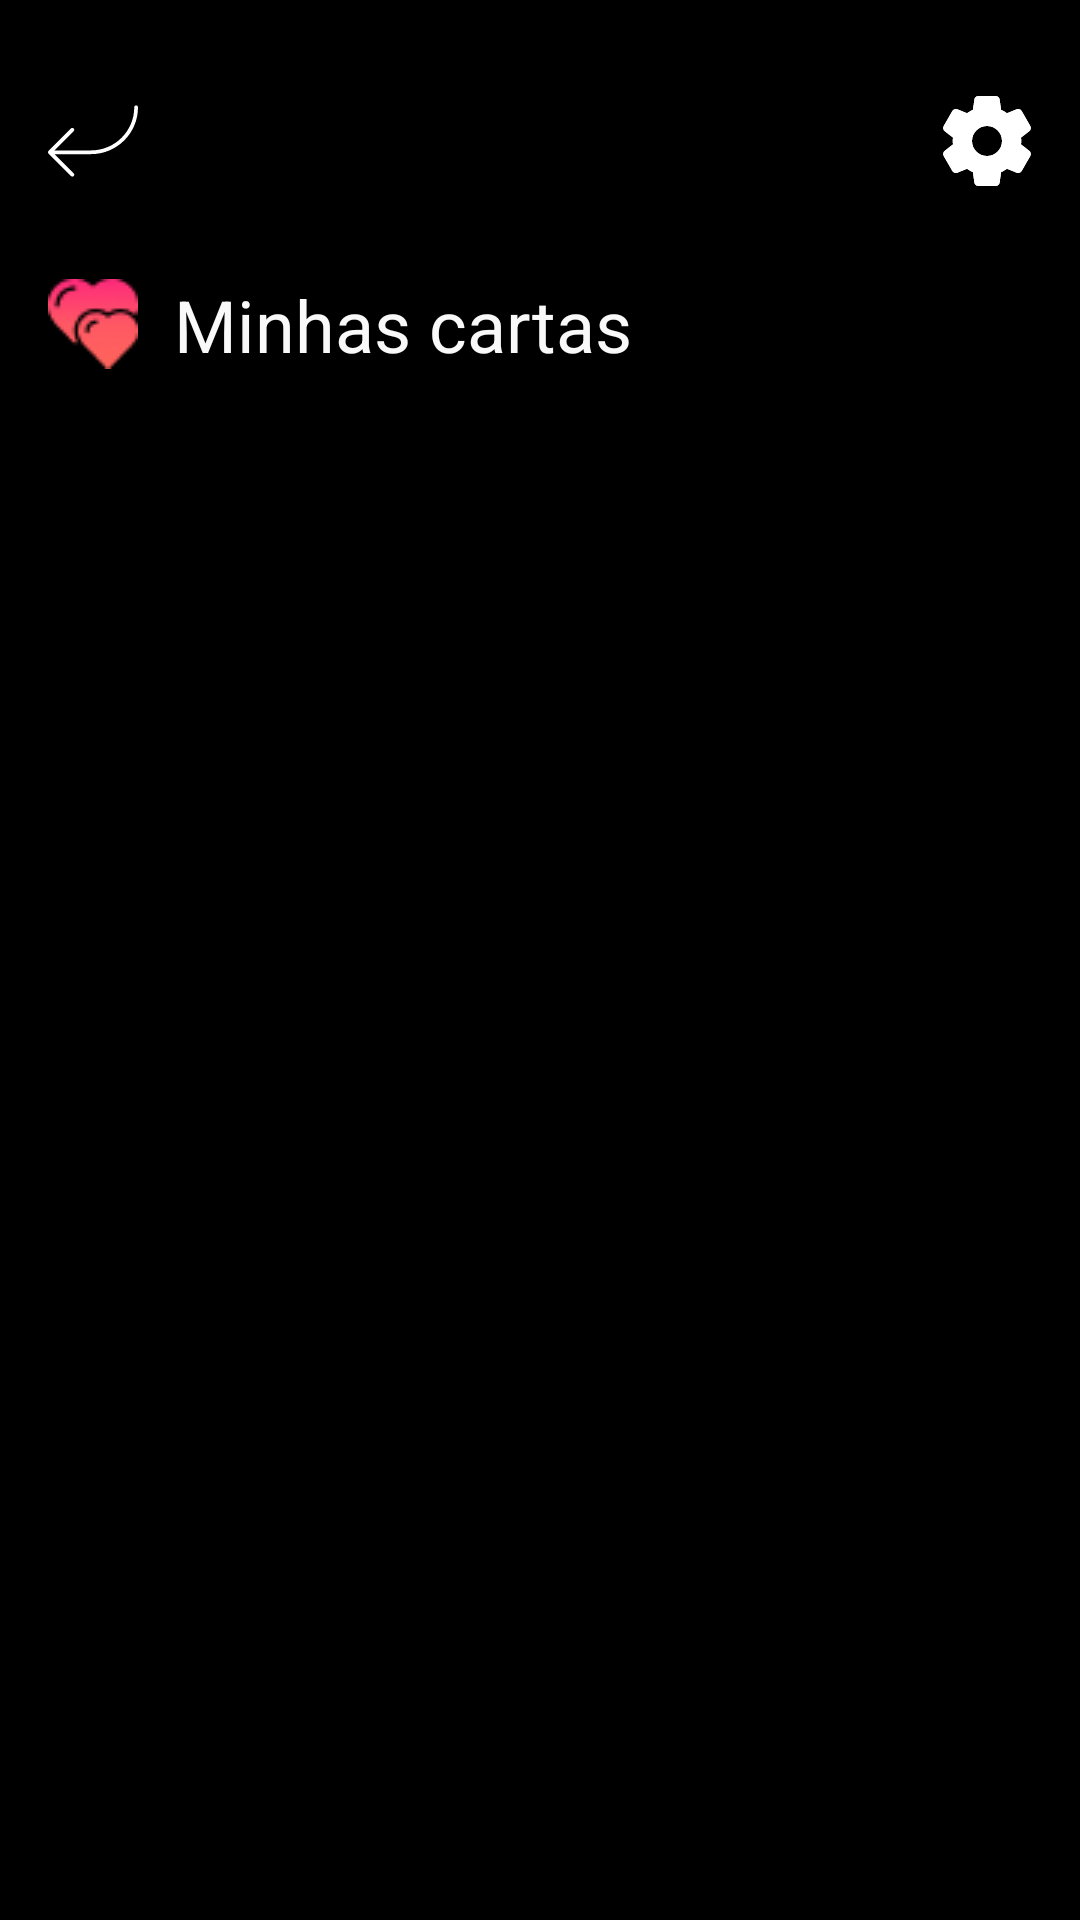

Named icons in this screenshot (1080px×1920px) and their centers, (x,y):
down left: (93,141)
heartrosa: (93,324)
